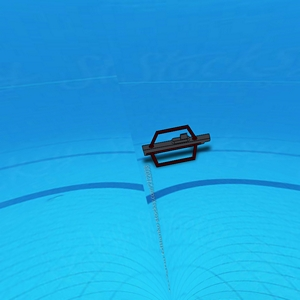submarine: (141, 123, 212, 166)
